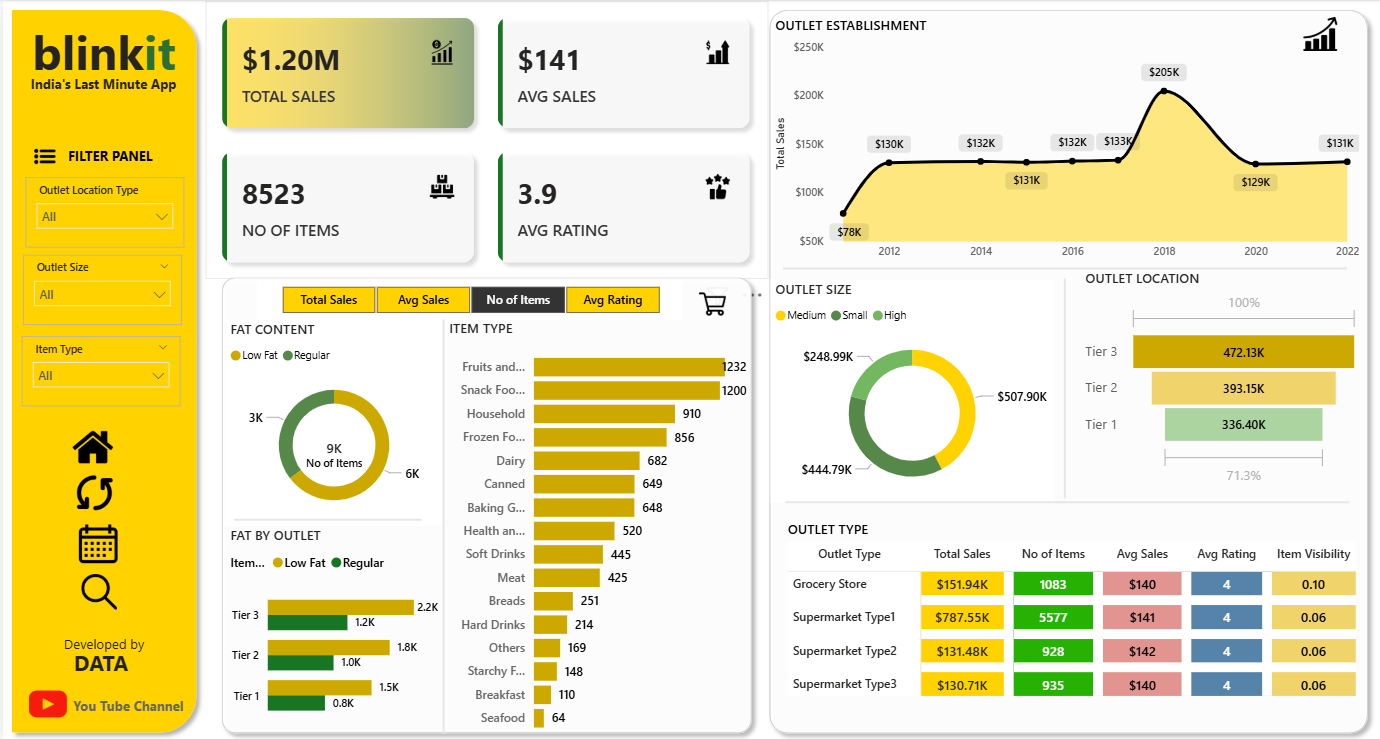

The dashboard page shown, as its layout file describes it:
{"tool":"powerbi","page":{"name":"Page 1","canvas":[1400,750],"ordinal":0},"visuals":[{"type":"shape","box":[767.1,0,624.1,750.6],"z":0},{"type":"shape","box":[0,0,205.1,750],"z":1000},{"type":"textbox","box":[0,12.7,205.1,86.1],"z":2000},{"type":"textbox","box":[21.5,69.6,160.8,29.1],"z":3000},{"type":"cardVisual","fields":{"Data":["BlinkIT Grocery Data.Total Sales","BlinkIT Grocery Data.Avg Sales","BlinkIT Grocery Data.No of Items","BlinkIT Grocery Data.Avg Rating"]},"box":[205.1,0,569.6,282.3],"z":4000},{"type":"shape","box":[212.7,270.9,554.4,479.7],"z":5000},{"type":"donutChart","title":"FAT CONTENT","fields":{"Y":["BlinkIT Grocery Data.No of Items"],"Category":["BlinkIT Grocery Data.Item Fat Content"]},"box":[225.3,322.8,220.3,208.9],"z":6000},{"type":"slicer","fields":{"Values":["Metrics.Metrics"]},"box":[257,282.3,431.6,40.5],"z":7000},{"type":"cardVisual","fields":{"Data":["BlinkIT Grocery Data.No of Items"]},"box":[289.9,426.6,91.1,64.6],"z":8000},{"type":"clusteredBarChart","title":"FAT BY OUTLET","fields":{"Y":["BlinkIT Grocery Data.No of Items"],"Category":["BlinkIT Grocery Data.Outlet Location Type"],"Series":["BlinkIT Grocery Data.Item Fat Content"]},"box":[225.3,531.6,220.3,210.1],"z":9000},{"type":"shape","box":[234.2,503.8,189.9,43],"z":10000},{"type":"shape","box":[320.3,322.8,251.9,419],"z":11000},{"type":"barChart","title":"ITEM TYPE","fields":{"Y":["BlinkIT Grocery Data.No of Items"],"Category":["BlinkIT Grocery Data.Item Type"]},"box":[446.8,321.5,311.4,429.1],"z":12000},{"type":"lineChart","title":"OUTLET ESTABLISHMENT","fields":{"Category":["BlinkIT Grocery Data.Outlet Establishment Year"],"Y":["BlinkIT Grocery Data.Total Sales"]},"box":[777.2,15.2,601.3,255.7],"z":13000},{"type":"shape","box":[789.9,249.4,570.9,43],"z":14000},{"type":"donutChart","title":"OUTLET SIZE","fields":{"Category":["BlinkIT Grocery Data.Outlet Size"],"Y":["BlinkIT Grocery Data.Total Sales"]},"box":[777.2,282.3,287.3,225.3],"z":15000},{"type":"funnel","title":"OUTLET LOCATION","fields":{"Category":["BlinkIT Grocery Data.Outlet Location Type"],"Y":["Sum(BlinkIT Grocery Data.Sales)"]},"box":[1091.1,270.9,287.3,225],"z":16000},{"type":"shape","box":[949.4,281,251.9,222.8],"z":17000},{"type":"shape","box":[792.4,486.1,570.9,43],"z":18000},{"type":"pivotTable","title":"OUTLET TYPE","fields":{"Rows":["BlinkIT Grocery Data.Outlet Type"],"Values":["BlinkIT Grocery Data.Total Sales","BlinkIT Grocery Data.No of Items","BlinkIT Grocery Data.Avg Sales","BlinkIT Grocery Data.Avg Rating","Avg(BlinkIT Grocery Data.Item Visibility)"]},"box":[789.9,525.3,588.6,207.6],"z":19000},{"type":"slicer","fields":{"Values":["BlinkIT Grocery Data.Outlet Location Type"]},"box":[22.8,178.5,160.8,70.9],"z":20000},{"type":"slicer","fields":{"Values":["BlinkIT Grocery Data.Outlet Size"]},"box":[20.3,257,160.8,70.9],"z":21000},{"type":"slicer","fields":{"Values":["BlinkIT Grocery Data.Item Type"]},"box":[19,339.2,160.8,70.9],"z":22000},{"type":"textbox","box":[54.4,143,108.9,31.6],"z":23000},{"type":"textbox","box":[35.4,636.7,134.2,29.1],"z":24000},{"type":"image","box":[65.8,426.6,50.6,50.6],"z":25000},{"type":"image","box":[21.5,682.3,48.1,59.5],"z":26000},{"type":"textbox","box":[45.6,700,163.3,41.8],"z":27000},{"type":"textbox","box":[35.4,650.6,127.8,43],"z":28000},{"type":"image","box":[65.8,470.9,54.4,54.4],"z":29000},{"type":"image","box":[69.6,525.3,53.2,49.4],"z":30000},{"type":"image","box":[22.8,141.8,39.2,31.6],"z":30001},{"type":"image","box":[700,286.1,36.7,41.8],"z":30002},{"type":"image","box":[1306.3,11.4,54.4,44.3],"z":30003},{"type":"image","box":[74.7,574.7,45.6,46.8],"z":30004}]}

Visuals, with their boxes in screenshot pixels (x1, y1, x2, y2), scaled from the page's 1400x750 canvas onto the 1380x739 screenshot:
shape: <region>756, 0, 1371, 738</region>
shape: <region>0, 0, 202, 738</region>
textbox: <region>0, 13, 202, 97</region>
textbox: <region>21, 69, 180, 97</region>
cardVisual - BlinkIT Grocery Data.Total Sales x BlinkIT Grocery Data.Avg Sales: <region>202, 0, 764, 278</region>
shape: <region>210, 267, 756, 738</region>
"FAT CONTENT" donutChart: <region>222, 318, 439, 524</region>
slicer - Metrics.Metrics: <region>253, 278, 679, 318</region>
cardVisual - BlinkIT Grocery Data.No of Items: <region>286, 420, 376, 484</region>
"FAT BY OUTLET" clusteredBarChart: <region>222, 524, 439, 731</region>
shape: <region>231, 496, 418, 539</region>
shape: <region>316, 318, 564, 731</region>
"ITEM TYPE" barChart: <region>440, 317, 747, 738</region>
"OUTLET ESTABLISHMENT" lineChart: <region>766, 15, 1359, 267</region>
shape: <region>779, 246, 1341, 288</region>
"OUTLET SIZE" donutChart: <region>766, 278, 1049, 500</region>
"OUTLET LOCATION" funnel: <region>1076, 267, 1359, 489</region>
shape: <region>936, 277, 1184, 496</region>
shape: <region>781, 479, 1344, 521</region>
"OUTLET TYPE" pivotTable: <region>779, 518, 1359, 722</region>
slicer - BlinkIT Grocery Data.Outlet Location Type: <region>22, 176, 181, 246</region>
slicer - BlinkIT Grocery Data.Outlet Size: <region>20, 253, 179, 323</region>
slicer - BlinkIT Grocery Data.Item Type: <region>19, 334, 177, 404</region>
textbox: <region>54, 141, 161, 172</region>
textbox: <region>35, 627, 167, 656</region>
image: <region>65, 420, 115, 470</region>
image: <region>21, 672, 69, 731</region>
textbox: <region>45, 690, 206, 731</region>
textbox: <region>35, 641, 161, 683</region>
image: <region>65, 464, 118, 518</region>
image: <region>69, 518, 121, 566</region>
image: <region>22, 140, 61, 171</region>
image: <region>690, 282, 726, 323</region>
image: <region>1288, 11, 1341, 55</region>
image: <region>74, 566, 119, 612</region>
